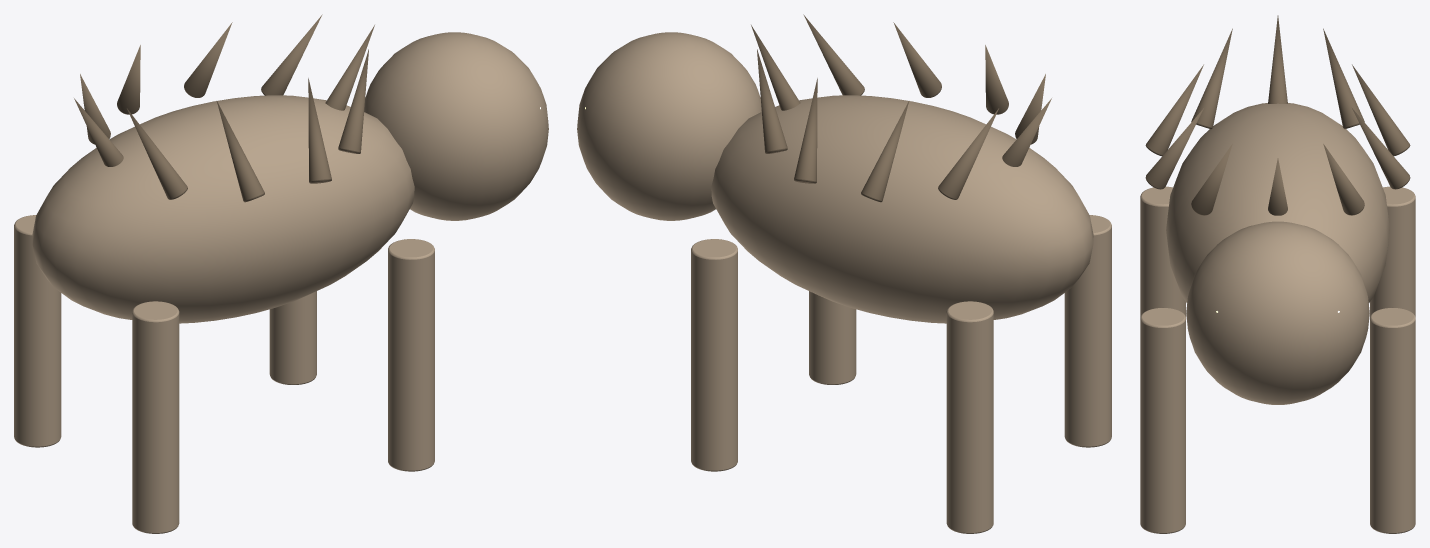
The model's file is SM_ANM_ThornhideDray.fbx.
3 views of the same model, side by side, from view 1: azimuth 30°, elevation 25°; view 2: azimuth 150°, elevation 25°; view 3: azimuth 270°, elevation 25° (orthographic). The views are drawn at different scales.
Parts seen in each view (by area): view 1: SM_ANM_ThornhideDray; view 2: SM_ANM_ThornhideDray; view 3: SM_ANM_ThornhideDray.
Boxes of the visible parts, x1,y1,x2,y2 form: SM_ANM_ThornhideDray: (14,14,548,533); SM_ANM_ThornhideDray: (577,14,1111,533); SM_ANM_ThornhideDray: (1140,15,1415,533).
Size of what is drawn, in the model's own units: 0.97 by 0.7282 by 0.48.
